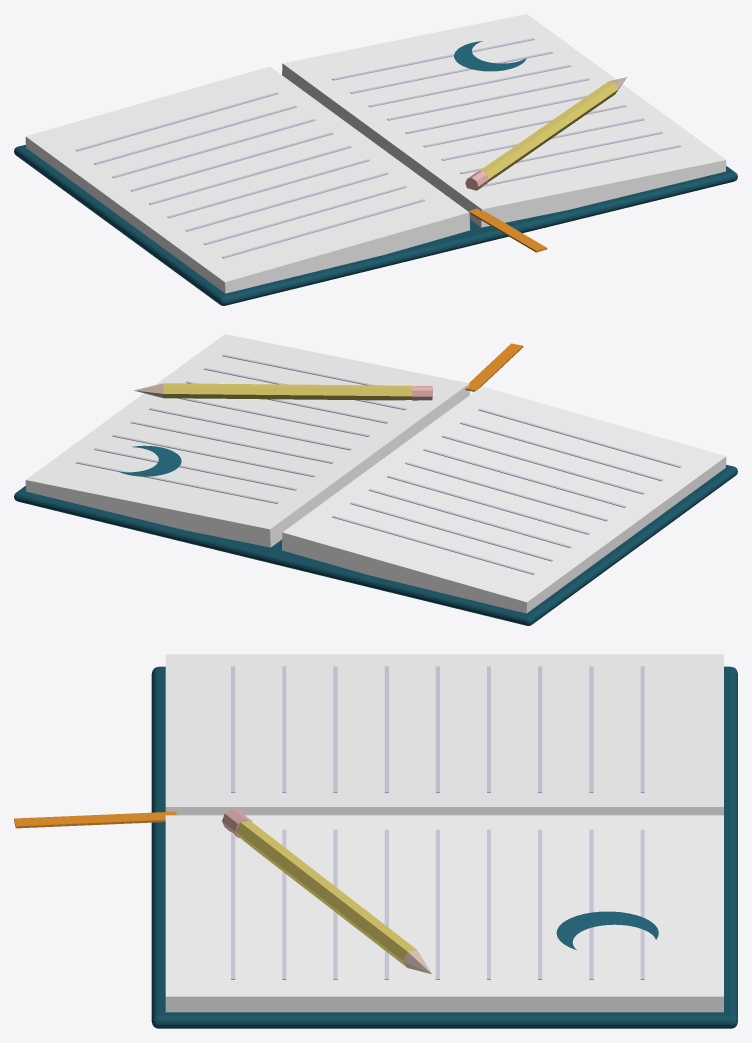
The model's file is dreamJournal.glb.
3 views of the same model, one above another, from view 1: azimuth 30°, elevation 25°; view 2: azimuth 150°, elevation 25°; view 3: azimuth 270°, elevation 25° (orthographic). The views are drawn at different scales.
Parts seen in each view (by area): view 1: #FFFFFF, #175567, #D9D8EC, #E0D06A, #21687E, #E79124; view 2: #FFFFFF, #175567, #D9D8EC, #E0D06A, #21687E, #E79124; view 3: #FFFFFF, #175567, #D9D8EC, #E0D06A, #E79124, #21687E.
Boxes of the visible parts, box(x1,y1,x2,y2) form: #FFFFFF: box(25, 14, 726, 293); #175567: box(14, 144, 737, 305); #D9D8EC: box(76, 38, 681, 258); #E0D06A: box(479, 81, 618, 182); #21687E: box(454, 41, 526, 71); #E79124: box(468, 208, 547, 252); #FFFFFF: box(25, 334, 726, 613); #175567: box(14, 464, 737, 625); #D9D8EC: box(76, 354, 681, 574); #E0D06A: box(163, 383, 412, 400); #21687E: box(118, 445, 181, 476); #E79124: box(465, 343, 523, 391); #FFFFFF: box(165, 654, 723, 1012); #175567: box(151, 666, 737, 1028); #D9D8EC: box(231, 666, 644, 979); #E0D06A: box(236, 820, 416, 967); #E79124: box(14, 811, 176, 828); #21687E: box(556, 911, 658, 950).
Bounding box in the file's own units: 0.36 × 0.0277 × 0.3112.
